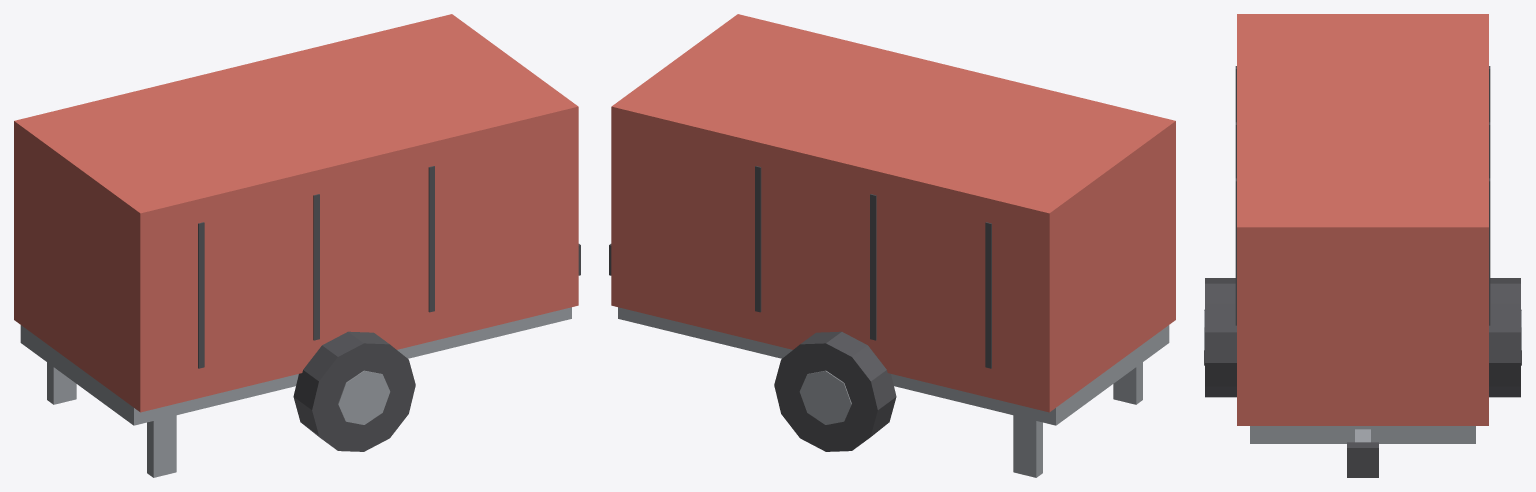
Rendered from dm_generatortrailer.glb.
The picture shows the model from 3 angles, left to right: view 1: azimuth 30°, elevation 25°; view 2: azimuth 150°, elevation 25°; view 3: azimuth 270°, elevation 25°; orthographic projection.
Parts seen in each view (by area): view 1: GeneratorTrailer; view 2: GeneratorTrailer; view 3: GeneratorTrailer.
Part boxes in pixels (box(x1,y1,x2,y2)): GeneratorTrailer: box(14, 14, 580, 477); GeneratorTrailer: box(609, 14, 1175, 477); GeneratorTrailer: box(1204, 14, 1521, 477).
Bounding box in the file's own units: 4.3 × 2.3 × 2.39.
